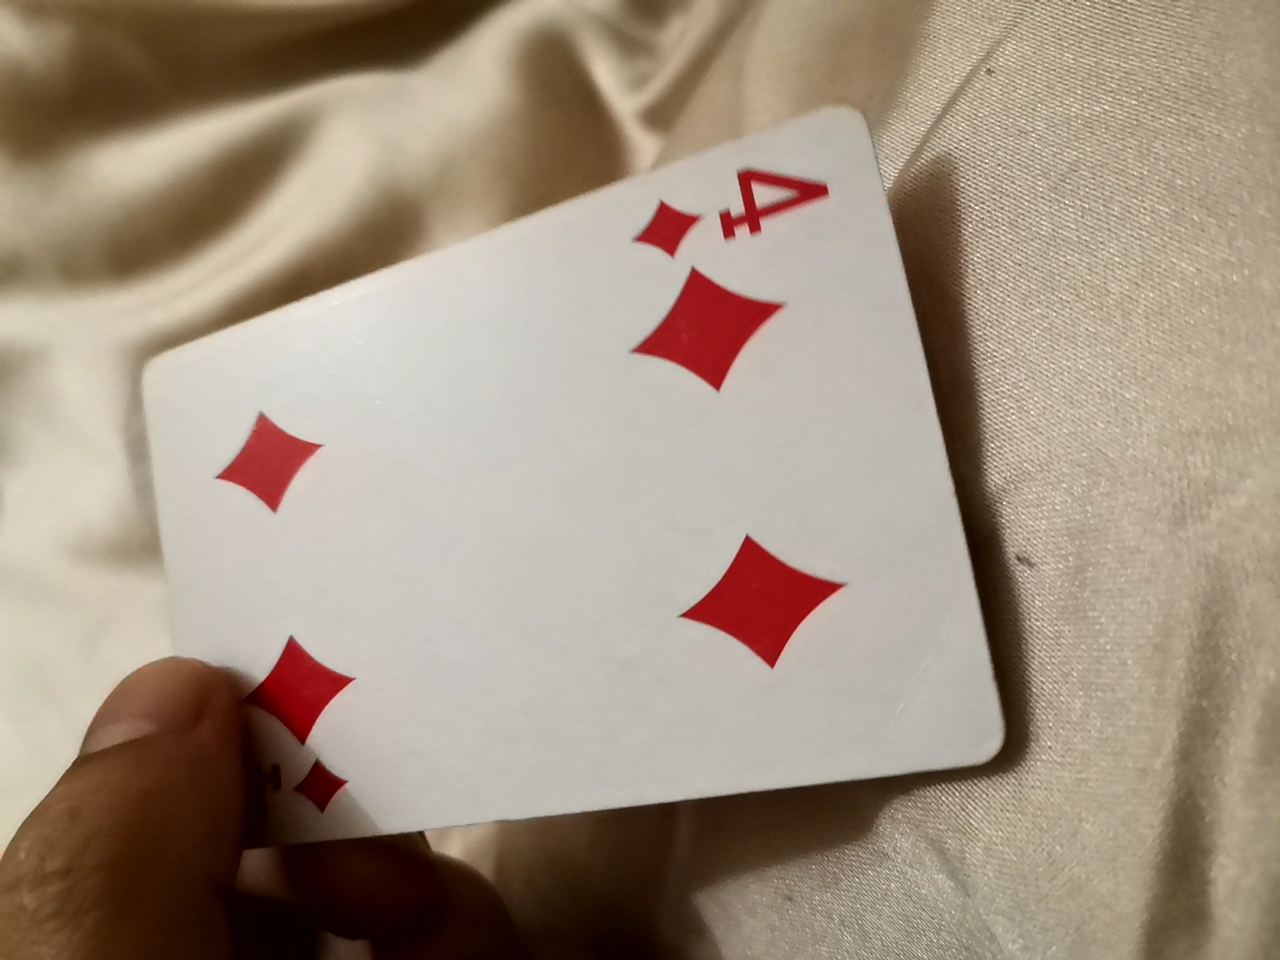fk 4: (67, 19, 1034, 873)
